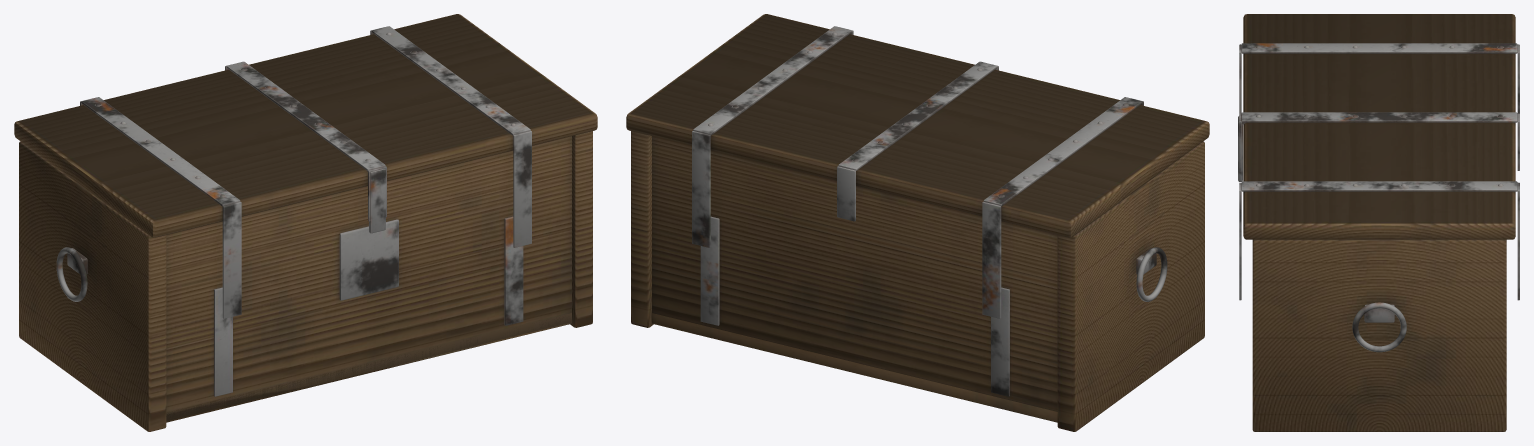
The model's file is sea_chest.glb.
3 views of the same model, side by side, from view 1: azimuth 30°, elevation 25°; view 2: azimuth 150°, elevation 25°; view 3: azimuth 270°, elevation 25° (orthographic). The views are drawn at different scales.
Visible parts, largest first — view 1: sea_chest; view 2: sea_chest; view 3: sea_chest.
Part boxes in pixels (x1,y1,x2,y2): sea_chest: (14,14,597,431); sea_chest: (626,14,1209,431); sea_chest: (1238,14,1519,431).
Size of the model in its own units: 0.88 by 0.3865 by 0.466.
Materials: 1 (1 with a texture image).
